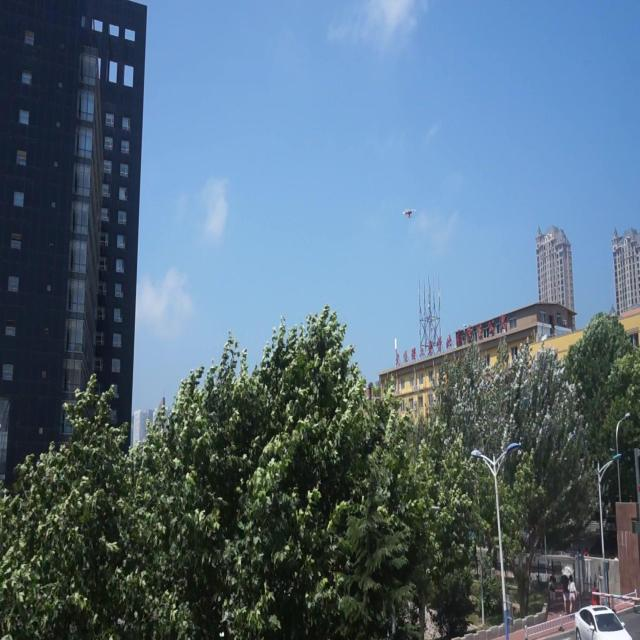drone: (401, 205, 417, 222)
